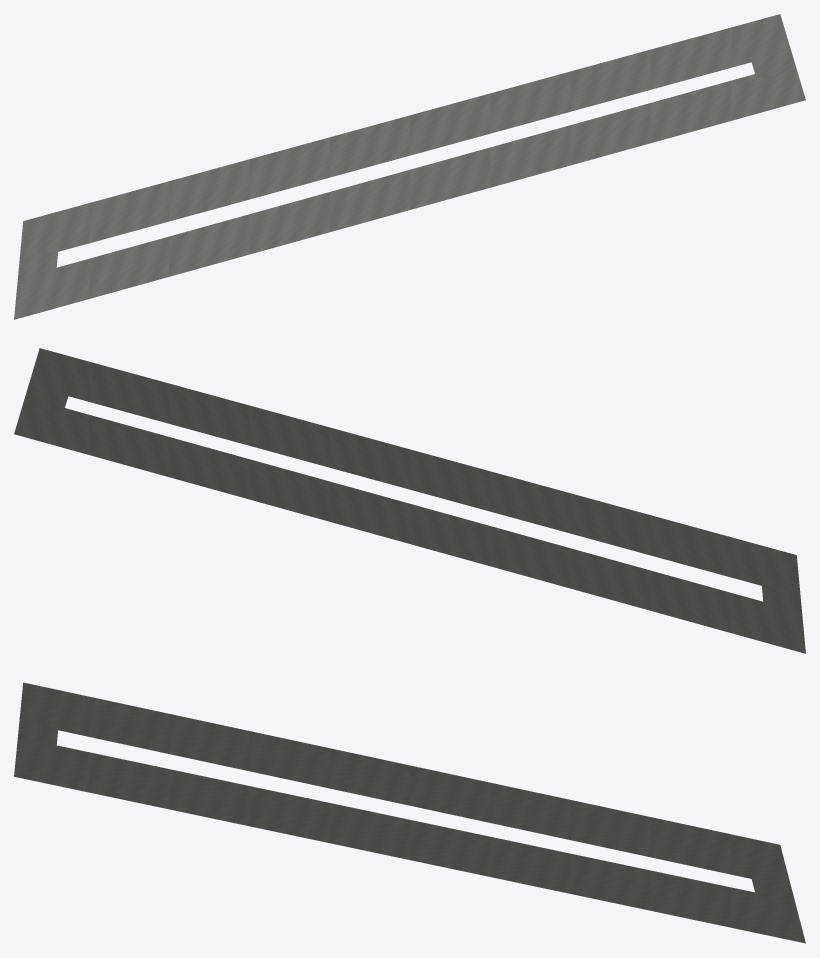
Rendered from curb_top_ring_00_visual.obj.
The picture shows the model from 3 angles, top to bottom: view 1: azimuth 30°, elevation 25°; view 2: azimuth 150°, elevation 25°; view 3: azimuth 330°, elevation 25°; orthographic projection.
Parts seen in each view (by area): view 1: curb_top_ring_00_visual; view 2: curb_top_ring_00_visual; view 3: curb_top_ring_00_visual.
Boxes of the visible parts, x1,y1,x2,y2 form: curb_top_ring_00_visual: [14, 14, 805, 319]; curb_top_ring_00_visual: [14, 348, 805, 653]; curb_top_ring_00_visual: [14, 682, 805, 943].
Size of the model in its own units: 7.4 by 1.06 by 0.
Materials: 1 (1 with a texture image).
